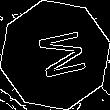M_W: (25, 27, 85, 83)
